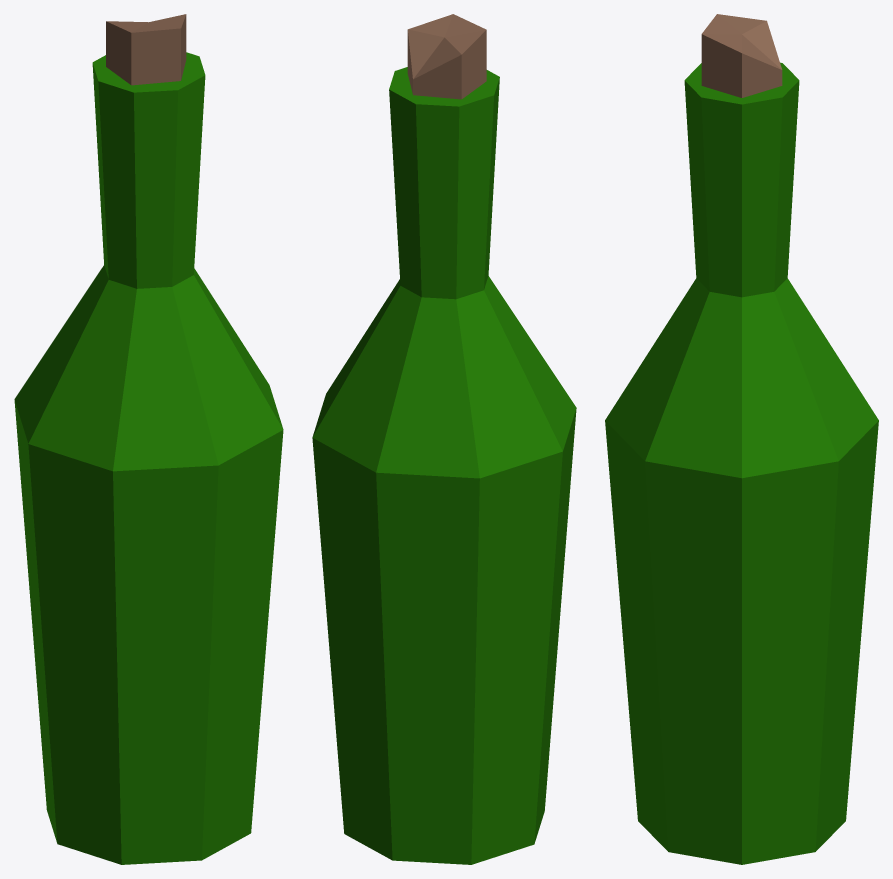
The model's file is Bottle_2.fbx.
The picture shows the model from 3 angles, left to right: view 1: azimuth 30°, elevation 25°; view 2: azimuth 150°, elevation 25°; view 3: azimuth 270°, elevation 25°; orthographic projection.
Parts seen in each view (by area): view 1: pCylinder169; view 2: pCylinder169; view 3: pCylinder169.
Boxes of the visible parts, x1=… form: pCylinder169: x1=14, y1=14, x2=283, y2=864; pCylinder169: x1=312, y1=14, x2=576, y2=864; pCylinder169: x1=605, y1=14, x2=878, y2=864.
Size of the model in its own units: 15.59 by 49.76 by 15.59.
